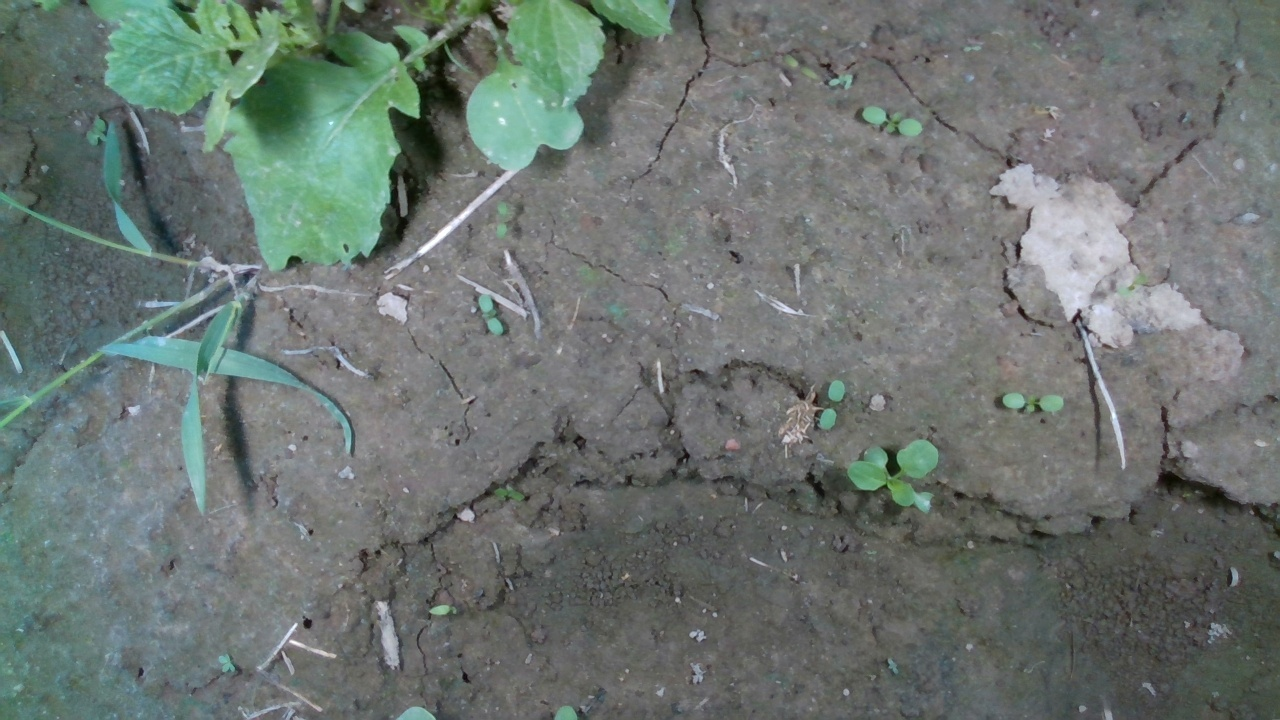weed: (818, 379, 845, 432)
